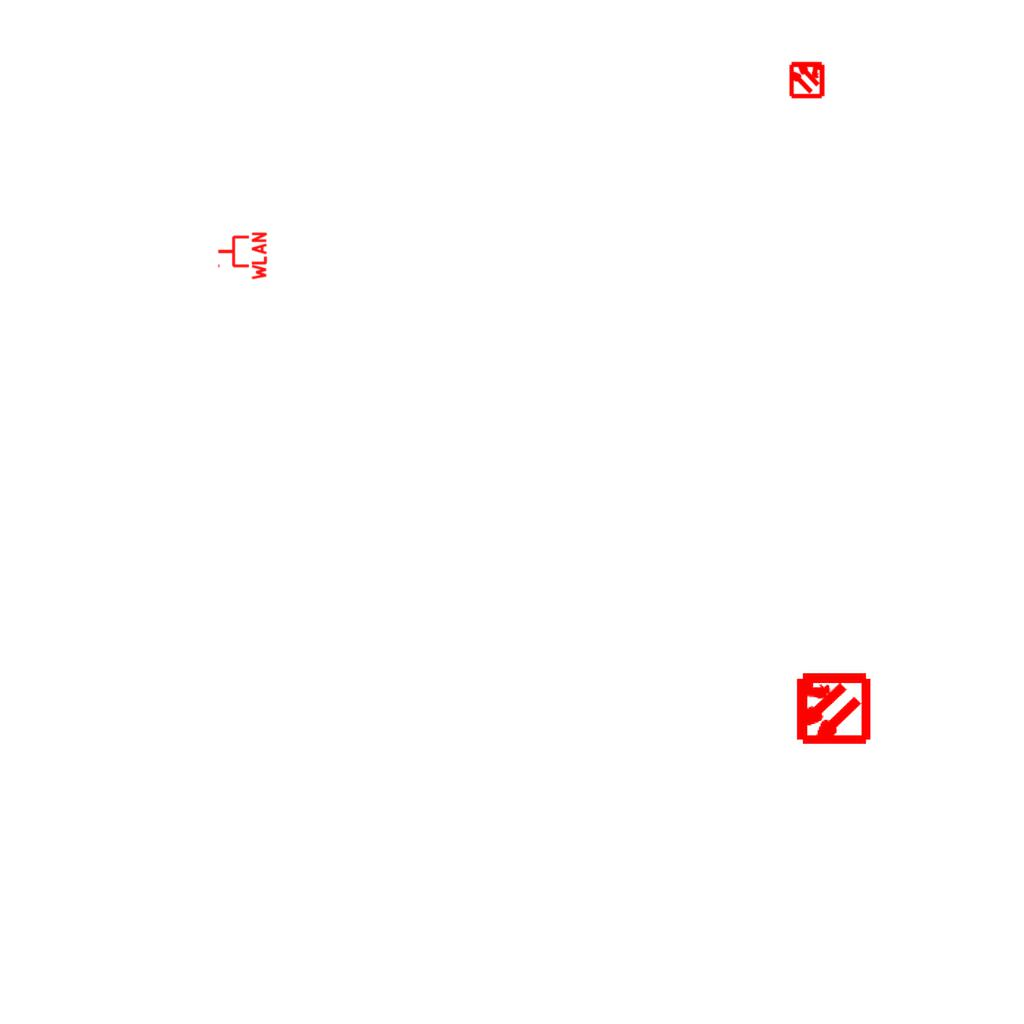OT_Multisensormelder_(Kombination_RMO_WMD): (775, 652, 888, 765), (779, 51, 835, 107)
WLAN: (216, 230, 268, 282)
